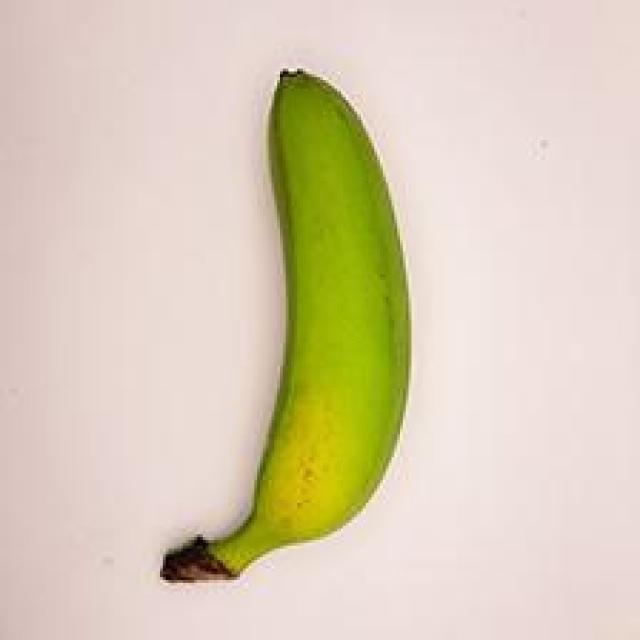Unripe: (133, 46, 424, 592)
